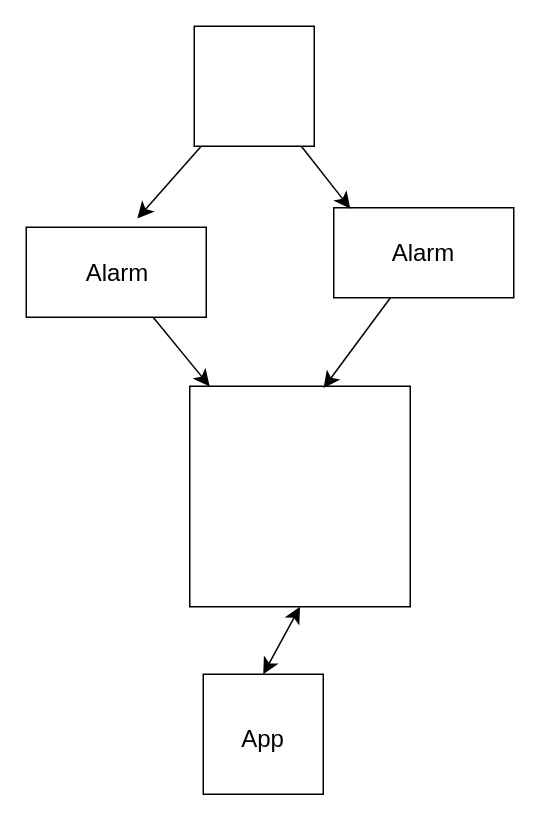
The diagram is 540 pixels wide and 821 high, and some of its shapes have lost their labels. Here are the shapes that lost their labels. From the top down, the box of each, then its label:
(193, 25, 314, 146): amazon CW
(188, 385, 410, 607): Auto Scaling Group
